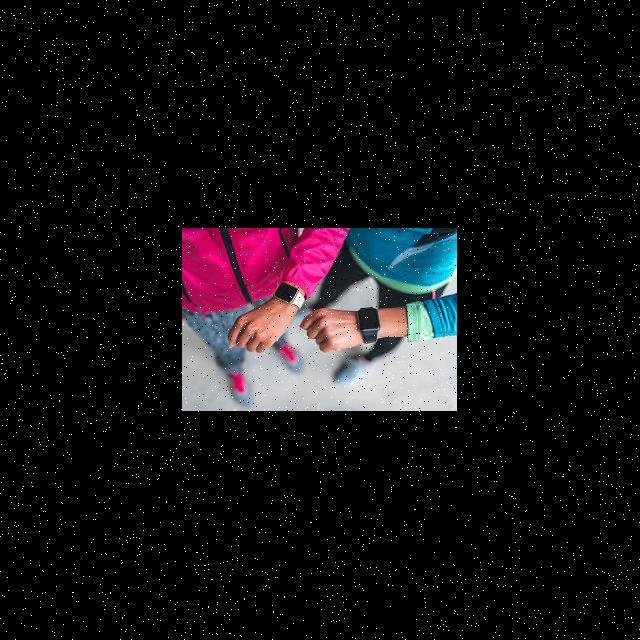watch: (345, 292, 393, 355), (272, 270, 313, 318)
